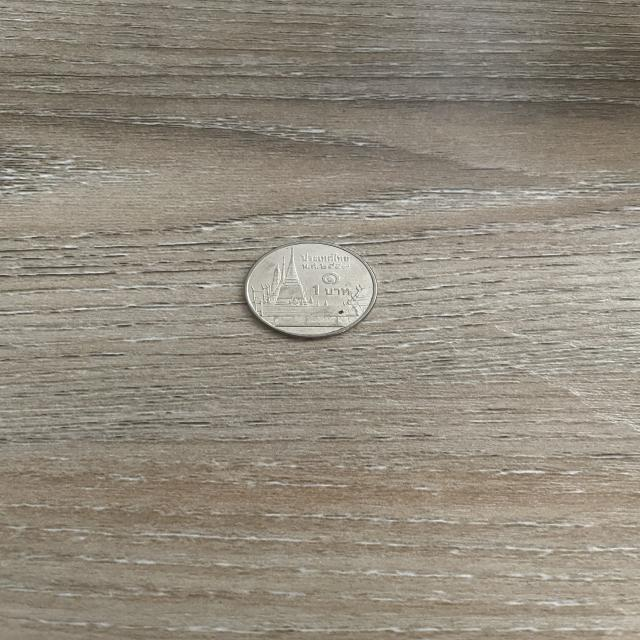1 Bath: (239, 235, 388, 347)
